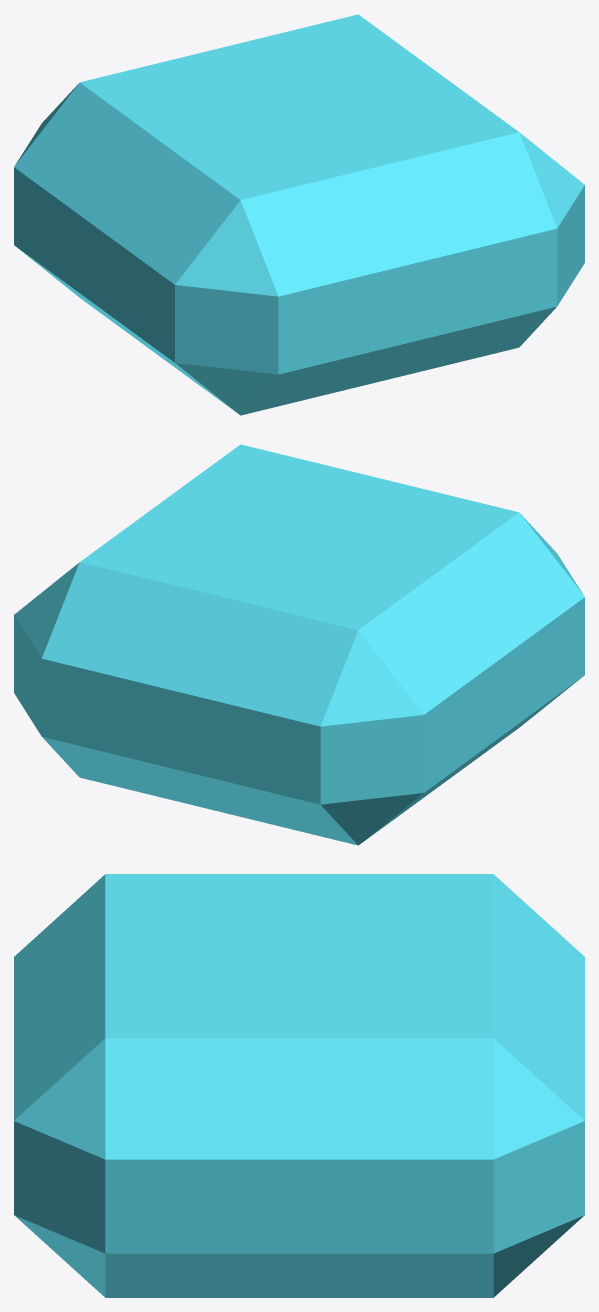
Rendered from takoz.fbx.
The picture shows the model from 3 angles, top to bottom: view 1: azimuth 30°, elevation 25°; view 2: azimuth 150°, elevation 25°; view 3: azimuth 270°, elevation 25°; orthographic projection. The views are drawn at different scales.
Parts seen in each view (by area): view 1: Cube; view 2: Cube; view 3: Cube.
Boxes of the visible parts, box(x1,y1,x2,y2) form: Cube: box(14, 14, 584, 415); Cube: box(14, 444, 584, 845); Cube: box(14, 874, 584, 1297).
Bounding box in the file's own units: 162 × 81.54 × 162.
